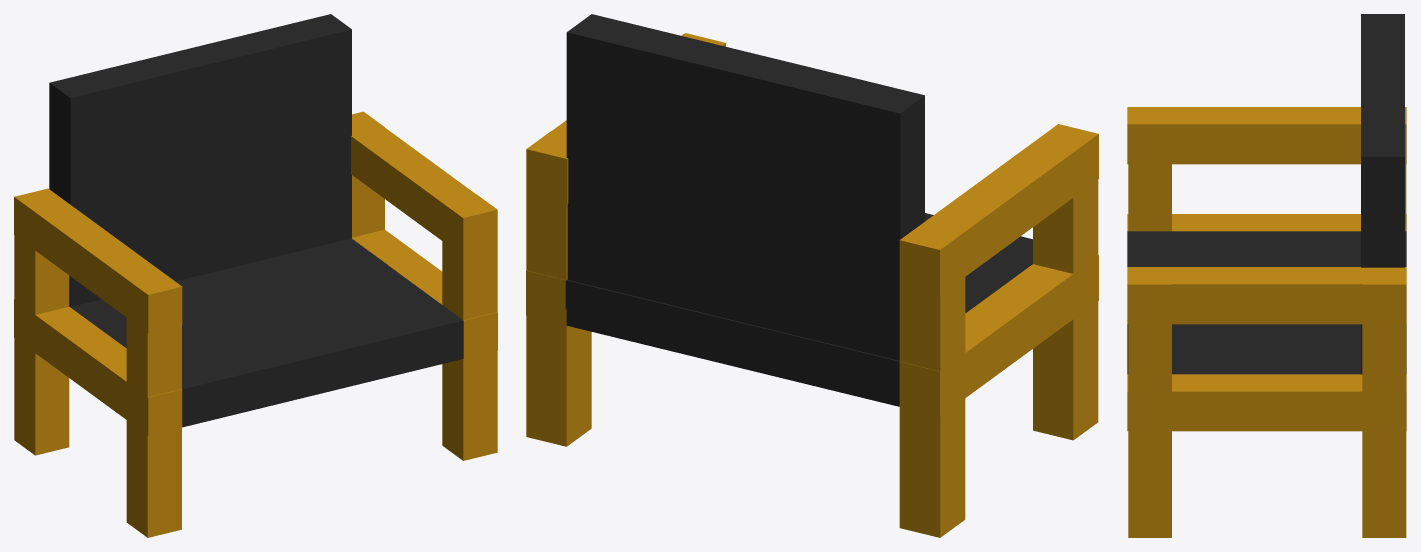
Rendered from hospital_chair.fbx.
3 views of the same model, side by side, from view 1: azimuth 30°, elevation 25°; view 2: azimuth 150°, elevation 25°; view 3: azimuth 270°, elevation 25° (orthographic). The views are drawn at different scales.
Visible parts, largest first — view 1: Cube_7, Cube, Cube_1, Cube_9, Cube_4, Cube_3, Cube_6, Cube_8, Cube_2, Cube_5; view 2: Cube_7, Cube, Cube_3, Cube_1, Cube_4, Cube_8, Cube_5, Cube_9, Cube_2; view 3: Cube, Cube_9, Cube_1, Cube_5, Cube_7, Cube_2, Cube_6, Cube_4, Cube_8.
Part boxes in pixels (left/top/right/bottom): Cube_7: left=49, top=14, right=351, bottom=306; Cube: left=69, top=238, right=463, bottom=427; Cube_1: left=14, top=188, right=182, bottom=332; Cube_9: left=351, top=111, right=497, bottom=256; Cube_4: left=126, top=280, right=181, bottom=537; Cube_3: left=14, top=197, right=69, bottom=455; Cube_6: left=442, top=194, right=497, bottom=460; Cube_8: left=14, top=299, right=182, bottom=435; Cube_2: left=352, top=229, right=497, bottom=358; Cube_5: left=352, top=112, right=384, bottom=237; Cube_7: left=566, top=14, right=924, bottom=360; Cube: left=565, top=213, right=1032, bottom=406; Cube_3: left=899, top=232, right=965, bottom=537; Cube_1: left=899, top=124, right=1098, bottom=295; Cube_4: left=1033, top=137, right=1098, bottom=440; Cube_8: left=899, top=255, right=1098, bottom=416; Cube_5: left=526, top=131, right=591, bottom=446; Cube_9: left=526, top=33, right=725, bottom=203; Cube_2: left=526, top=270, right=566, bottom=325; Cube: left=1127, top=231, right=1406, bottom=374; Cube_9: left=1127, top=267, right=1406, bottom=324; Cube_1: left=1127, top=107, right=1406, bottom=164; Cube_5: left=1362, top=284, right=1406, bottom=537; Cube_7: left=1361, top=14, right=1404, bottom=374; Cube_2: left=1127, top=374, right=1406, bottom=431; Cube_6: left=1128, top=284, right=1171, bottom=537; Cube_4: left=1128, top=124, right=1171, bottom=231; Cube_8: left=1127, top=214, right=1406, bottom=231.
Size of the model in its own units: 124 by 118 by 82.23.
